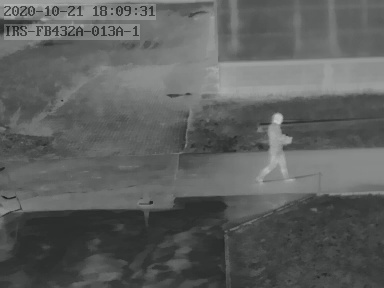person: (257, 112, 295, 185)
